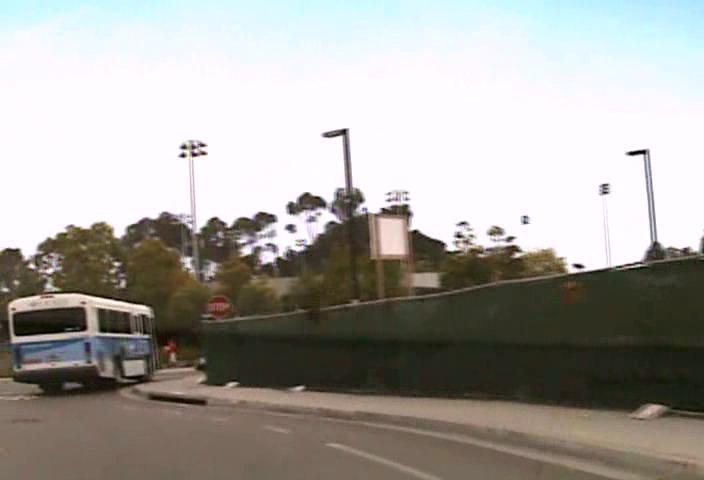stop: (205, 294, 231, 320)
